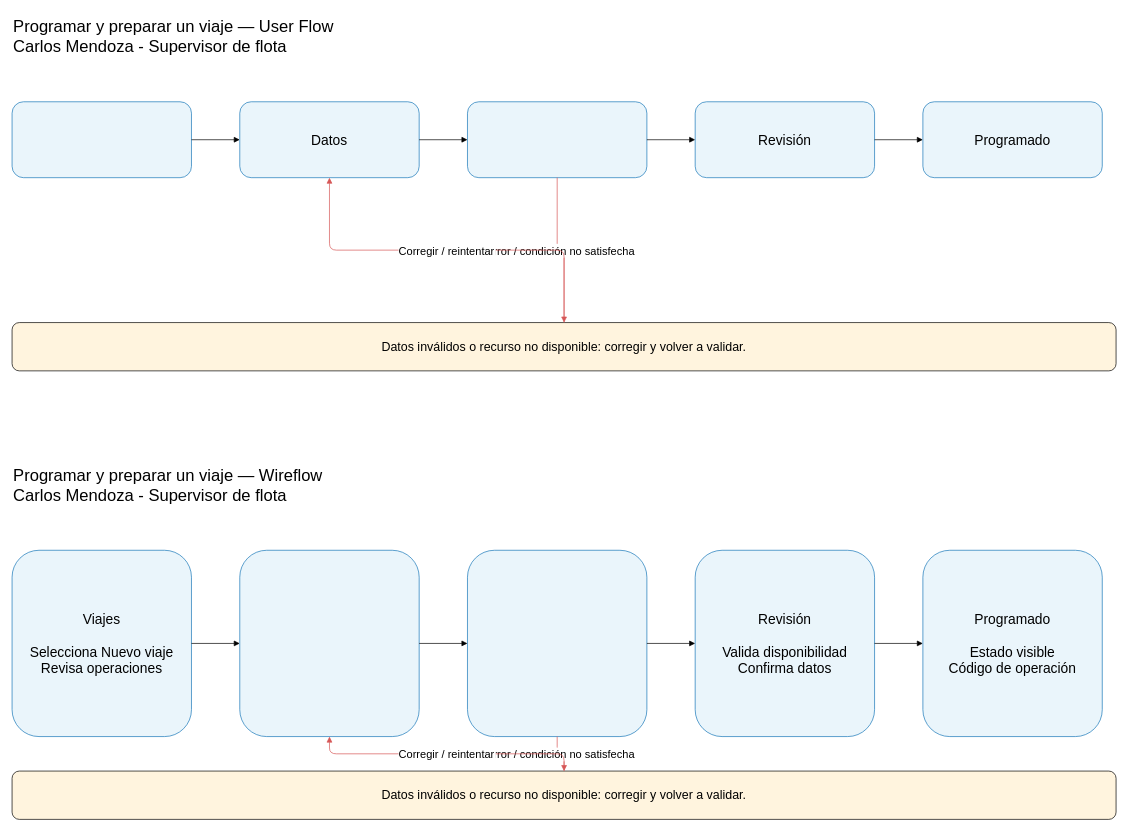
The diagram is 1128 pixels wide and 831 high, and some of its shapes have lost their labels. The box of each missing label's shape, as (x1, y1, x2, y2) in pixels:
Datos Origen y destino Fecha y prioridad: (239, 550, 419, 737)
Recursos: (467, 101, 647, 178)
Recursos Ruta Vehículo y conductor: (467, 550, 647, 737)
Viajes: (11, 101, 191, 178)
